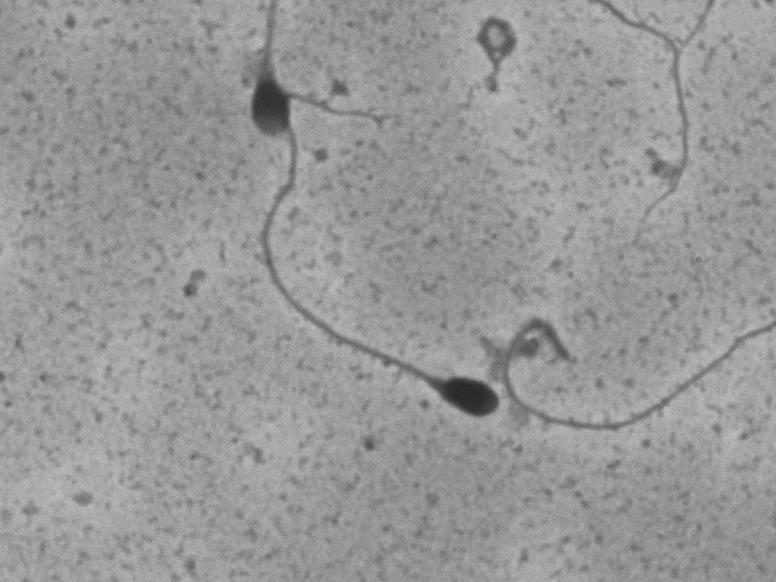Abnormal: (223, 16, 307, 141)
Normal: (247, 88, 516, 431)
